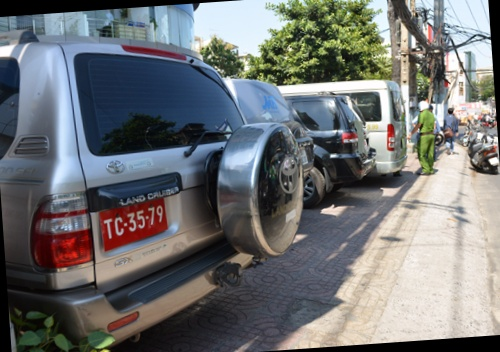plate: (100, 201, 167, 242)
